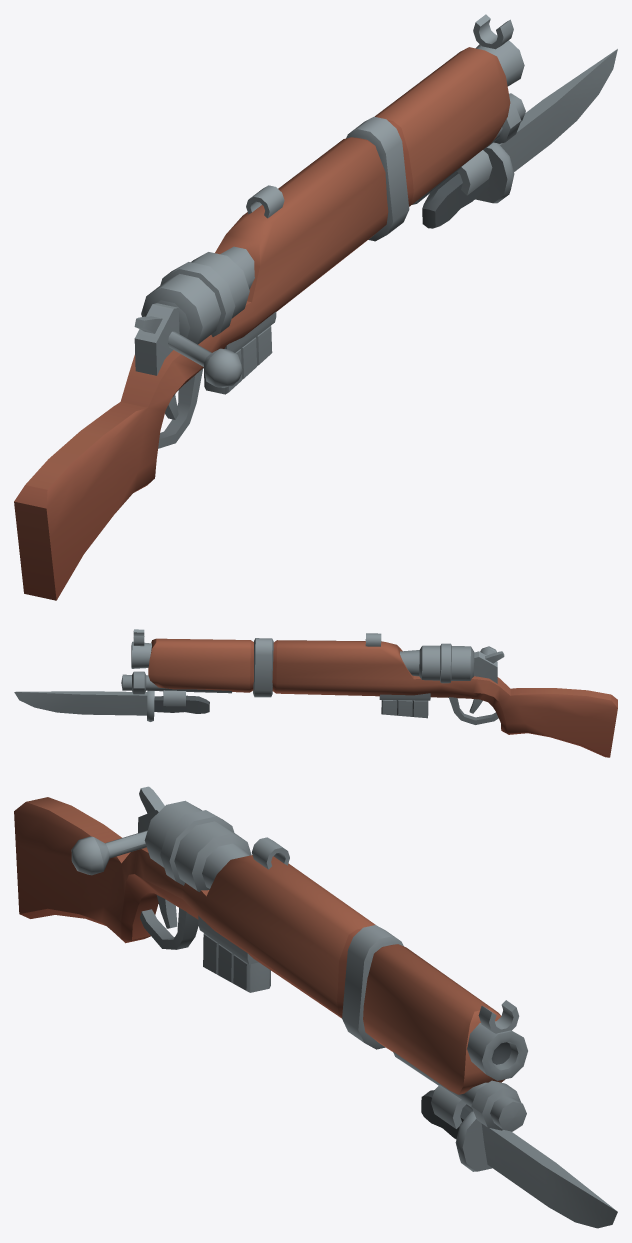
File: ToySoldier_Rifle_KFB.glb
3 views of the same model, one above another, from view 1: azimuth 30°, elevation 25°; view 2: azimuth 150°, elevation 25°; view 3: azimuth 270°, elevation 25° (orthographic). The views are drawn at different scales.
Parts seen in each view (by area): view 1: ToySoldier_Rifle; view 2: ToySoldier_Rifle; view 3: ToySoldier_Rifle.
Part boxes in pixels (x1,y1,x2,y2): ToySoldier_Rifle: (14, 14, 617, 600); ToySoldier_Rifle: (14, 629, 617, 757); ToySoldier_Rifle: (14, 786, 617, 1228).
Bounding box in the file's own units: 2.18 × 0.5658 × 1.28.
1 material, 1 textured.
